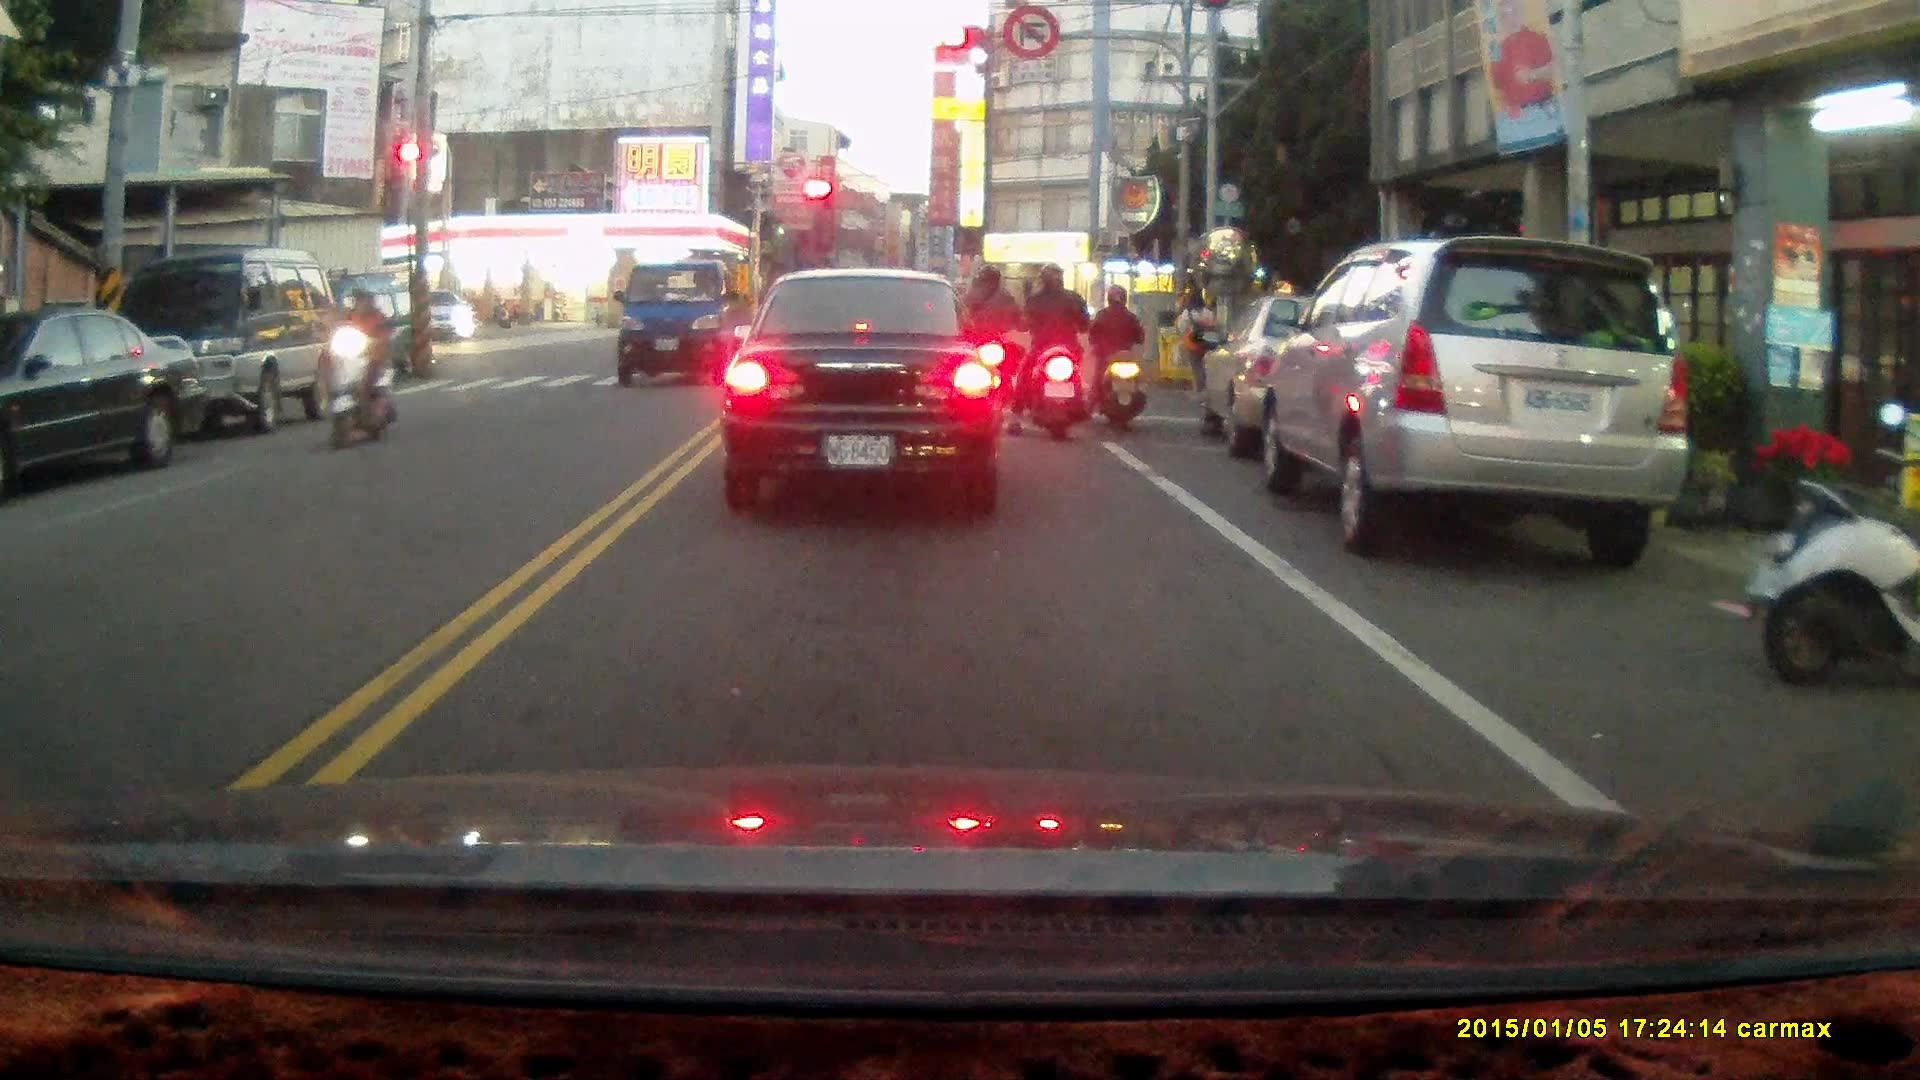pedestrian: (1170, 288, 1222, 409)
rider: (1004, 261, 1090, 443), (326, 282, 396, 448), (957, 267, 1019, 422), (1084, 282, 1147, 432)
vehicle: (1254, 233, 1693, 563), (723, 273, 1010, 512), (111, 244, 342, 432), (1200, 297, 1440, 466), (1, 307, 208, 498), (612, 266, 748, 389), (300, 271, 435, 394)
